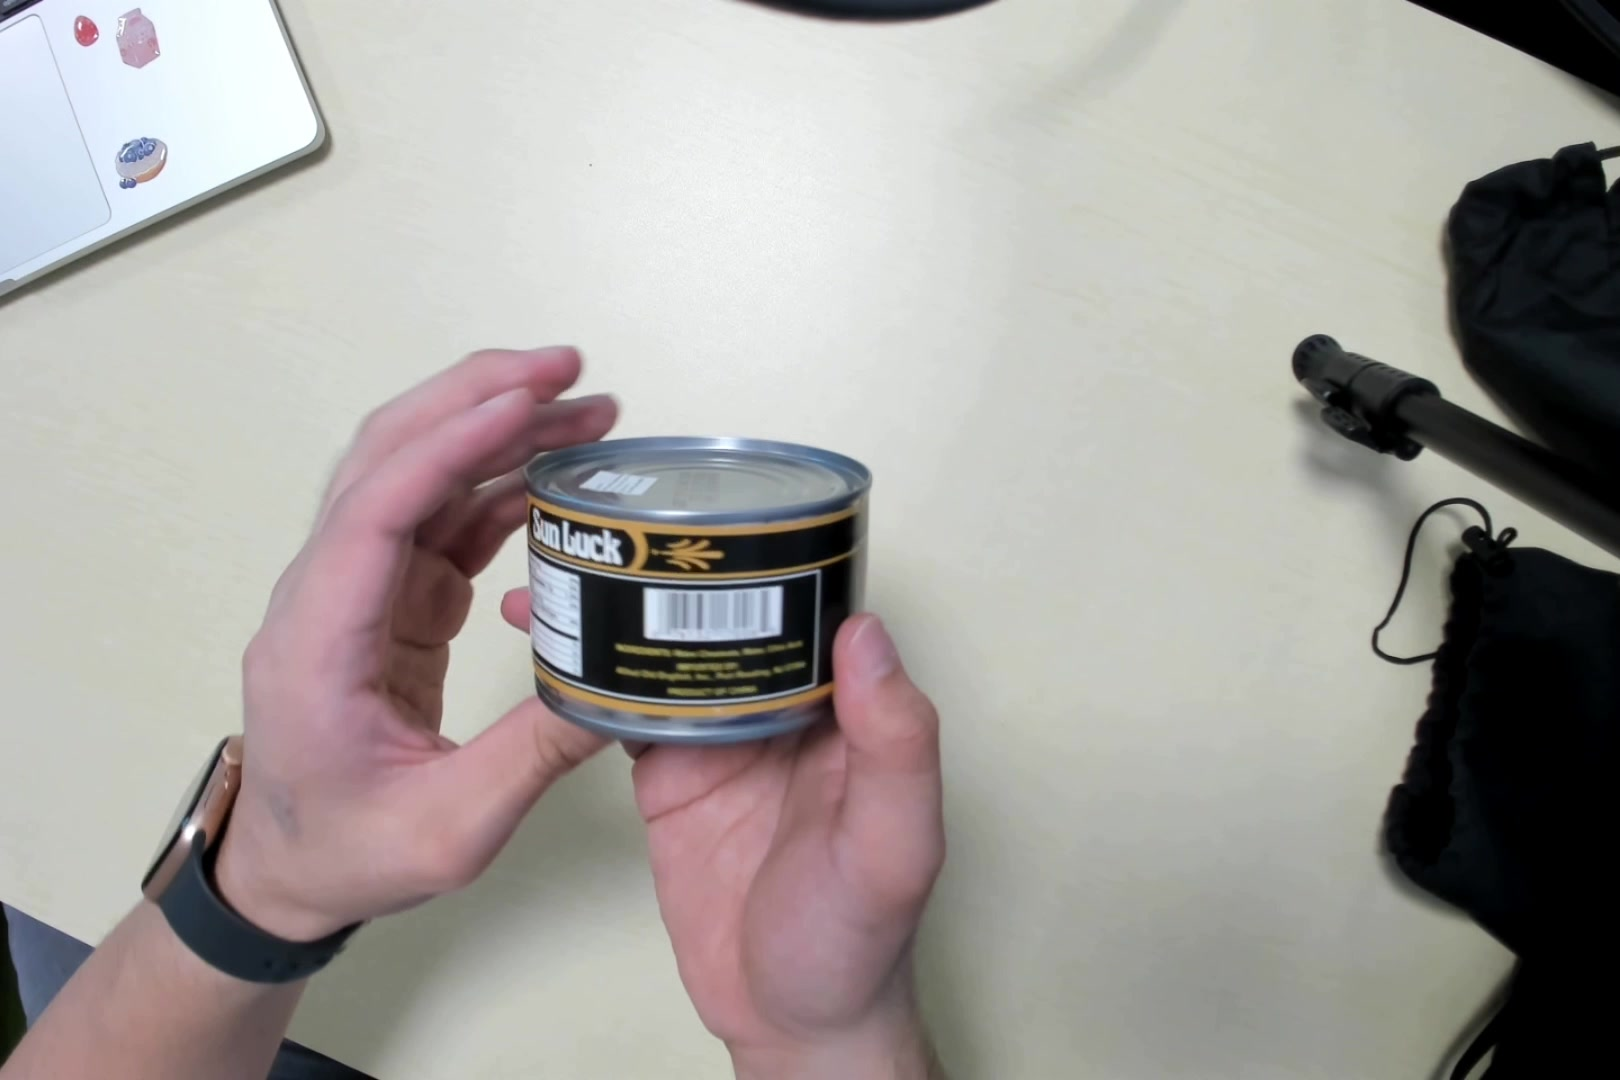CannedVegetarianFood_100-199g_Halal_NonHealthy: (513, 447, 865, 738)
